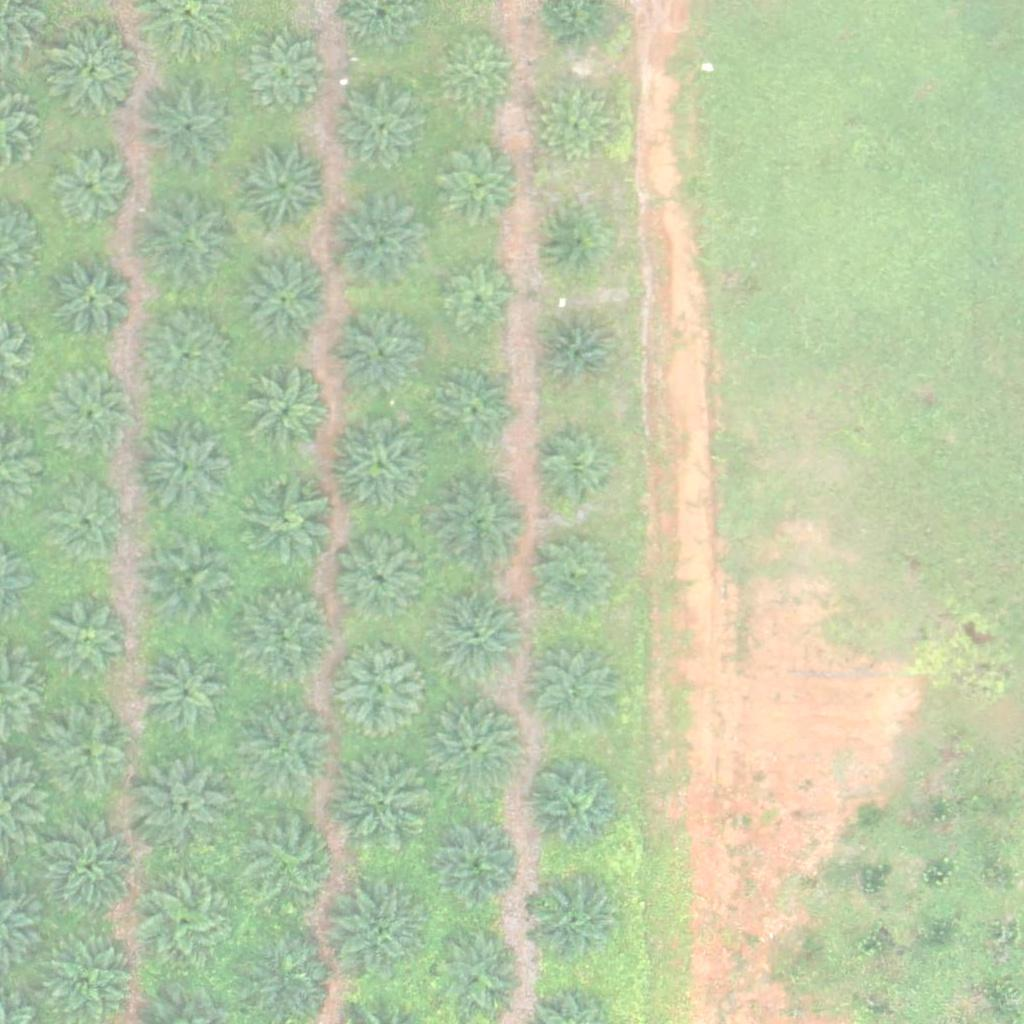Kelapa_Sawit: (326, 194, 426, 295), (231, 25, 331, 126), (231, 135, 331, 236), (137, 75, 237, 176), (140, 528, 240, 629), (235, 581, 335, 682), (240, 702, 340, 803), (331, 641, 431, 742), (330, 752, 430, 853), (331, 885, 431, 986), (433, 586, 533, 687), (426, 697, 526, 798), (525, 756, 625, 857), (429, 475, 529, 575), (329, 414, 429, 514), (235, 471, 335, 571), (140, 191, 240, 291), (135, 418, 235, 518), (45, 19, 145, 119), (36, 702, 136, 802), (134, 750, 234, 850), (243, 811, 343, 911), (337, 537, 425, 626), (531, 430, 619, 518), (434, 367, 522, 455), (336, 86, 424, 174), (335, 311, 423, 399), (48, 148, 136, 236), (142, 651, 230, 739), (141, 873, 229, 961), (431, 821, 519, 909), (533, 877, 621, 965), (432, 139, 519, 227), (535, 311, 622, 399), (240, 259, 327, 347), (243, 370, 330, 458), (143, 319, 230, 407), (48, 822, 135, 910), (435, 933, 522, 1021), (531, 531, 618, 619), (531, 646, 618, 734), (57, 265, 132, 341), (55, 376, 130, 452), (52, 599, 127, 675), (443, 265, 518, 340), (535, 86, 610, 161), (437, 34, 512, 109), (47, 491, 122, 566), (540, 209, 603, 272)
